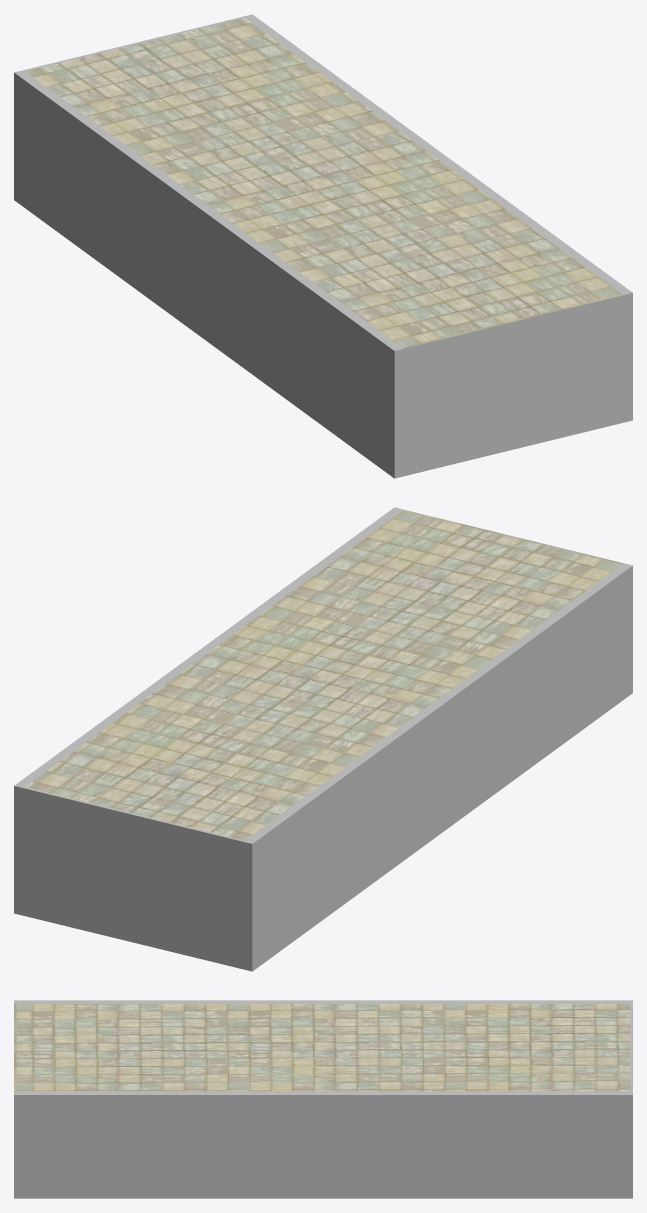
File: road_w02a.fbx
The picture shows the model from 3 angles, top to bottom: view 1: azimuth 30°, elevation 25°; view 2: azimuth 150°, elevation 25°; view 3: azimuth 270°, elevation 25°; orthographic projection. The views are drawn at different scales.
Parts seen in each view (by area): view 1: road_w02a; view 2: road_w02a; view 3: road_w02a.
Part boxes in pixels (x1,y1,x2,y2): road_w02a: (14,14,632,478); road_w02a: (14,507,632,971); road_w02a: (14,1000,632,1198).
Size of the model in its own units: 4.34 by 2.22 by 12.
